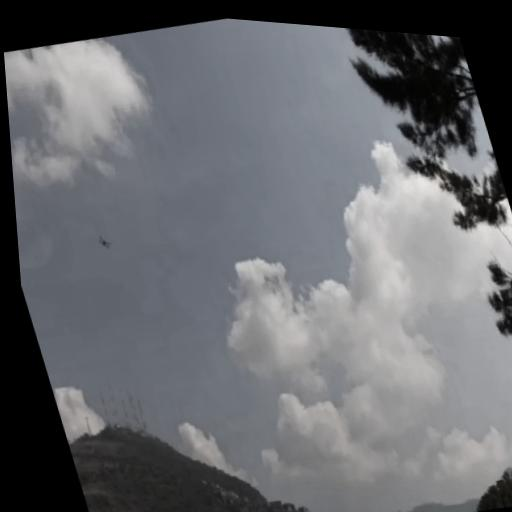drones: (94, 227, 118, 259)
